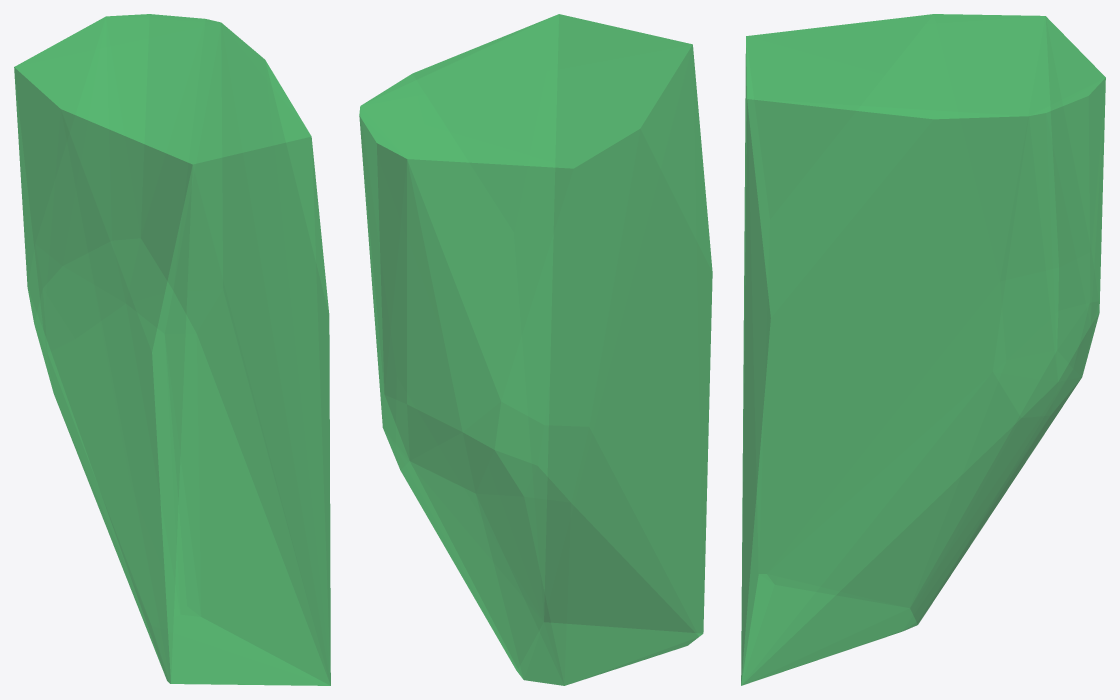
3 views of the same model, side by side, from view 1: azimuth 30°, elevation 25°; view 2: azimuth 150°, elevation 25°; view 3: azimuth 270°, elevation 25° (orthographic). The views are drawn at different scales.
Parts seen in each view (by area): view 1: Shape_IndexedFaceSet.001_Shape_IndexedFaceSet.18154; view 2: Shape_IndexedFaceSet.001_Shape_IndexedFaceSet.18154; view 3: Shape_IndexedFaceSet.001_Shape_IndexedFaceSet.18154.
Part boxes in pixels (<box>): Shape_IndexedFaceSet.001_Shape_IndexedFaceSet.18154: <box>14,14,330,685</box>; Shape_IndexedFaceSet.001_Shape_IndexedFaceSet.18154: <box>359,14,712,685</box>; Shape_IndexedFaceSet.001_Shape_IndexedFaceSet.18154: <box>741,14,1105,685</box>.
Bounding box in the file's own units: 0.2359 × 0.6091 × 0.3449.
